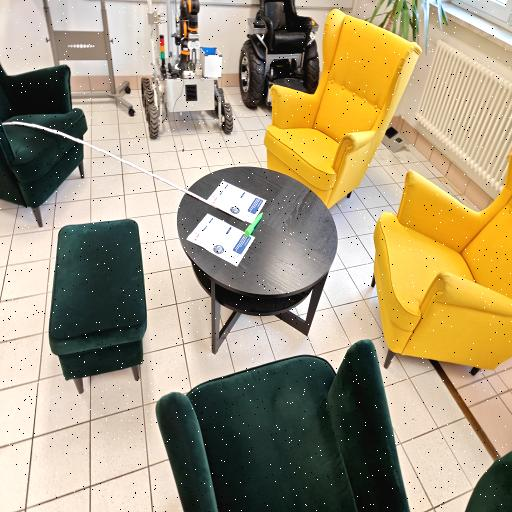Probe-Detection: (244, 212, 262, 236)
